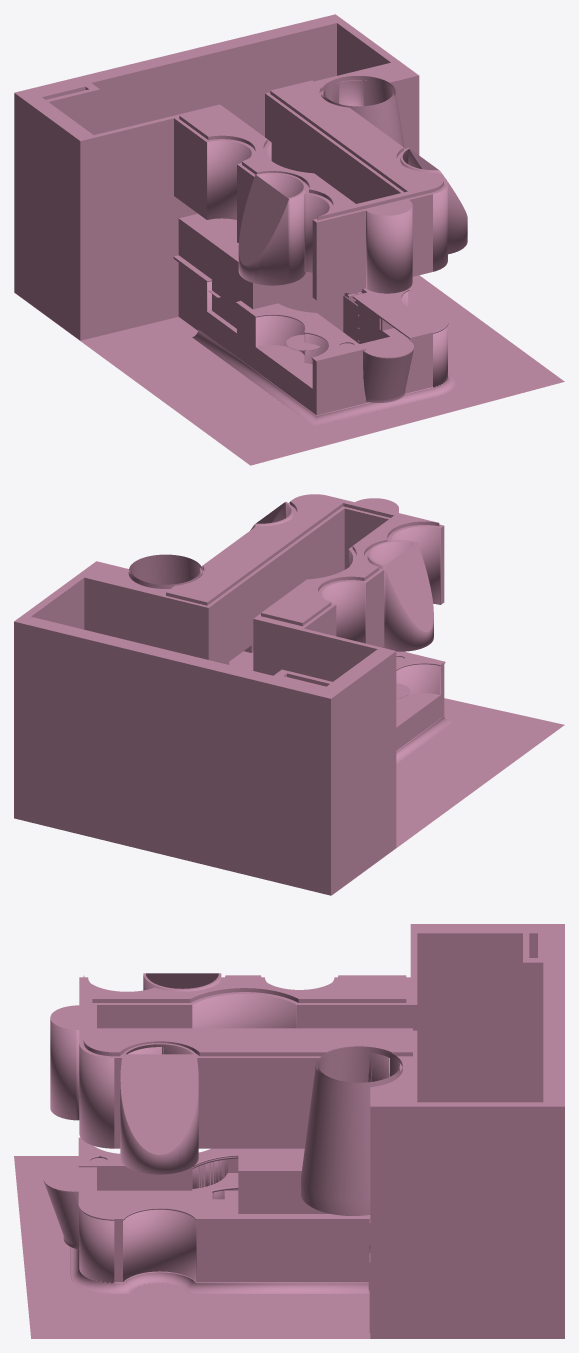
The model's file is asset.glb.
The picture shows the model from 3 angles, top to bottom: view 1: azimuth 30°, elevation 25°; view 2: azimuth 150°, elevation 25°; view 3: azimuth 270°, elevation 25°; orthographic projection. The views are drawn at different scales.
Parts seen in each view (by area): view 1: the final model, Cube; view 2: the final model; view 3: the final model, Cube.
Part boxes in pixels (x1,y1,x2,y2): the final model: (14,14,564,465); Cube: (178,214,344,331); the final model: (14,494,564,895); the final model: (14,924,564,1338); Cube: (238,1148,329,1213).
Bounding box in the file's own units: 4.98 × 3.55 × 6.34.
